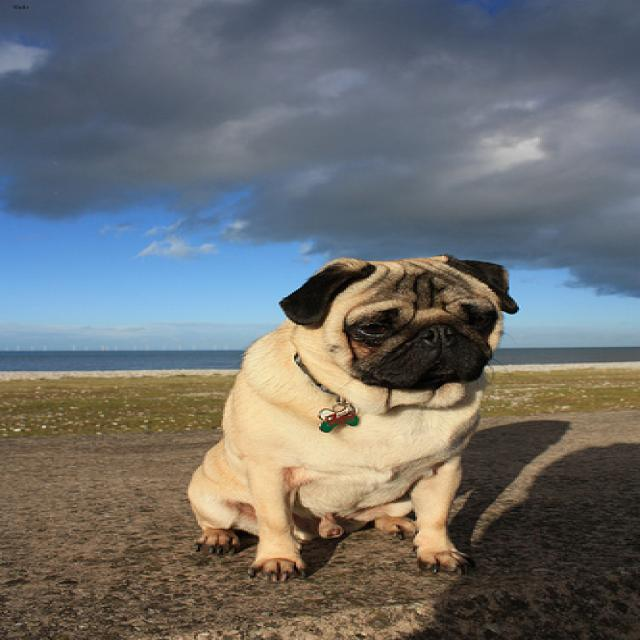dog-pug: (171, 251, 530, 589)
